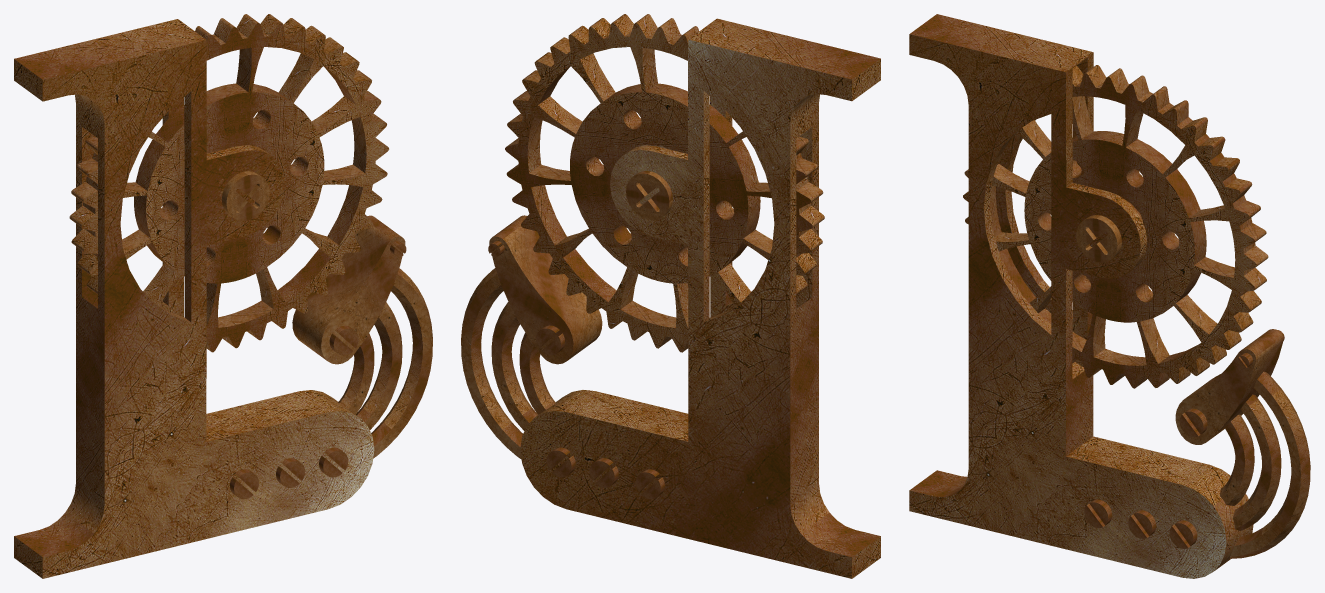
The picture shows the model from 3 angles, left to right: view 1: azimuth 30°, elevation 25°; view 2: azimuth 150°, elevation 25°; view 3: azimuth 330°, elevation 25°; orthographic projection. The views are drawn at different scales.
Parts seen in each view (by area): view 1: B, Cogwheel_316, Tube_518, Tube_520, Screw_614, Screw_615, Screw_611, Screw_632, Screw_629; view 2: B, Cogwheel_316, Tube_518, Tube_520, Screw_614, Screw_611, Screw_629, Screw_632, Screw_615; view 3: B, Cogwheel_316, Tube_520, Tube_518, Screw_614, Screw_611, Screw_629, Screw_615, Screw_632.
Part boxes in pixels (box(x1,y1,x2,y2)): B: box(14, 19, 405, 578); Cogwheel_316: box(69, 14, 389, 352); Tube_518: box(371, 268, 432, 458); Tube_520: box(338, 302, 402, 429); Screw_614: box(221, 171, 269, 221); Screw_615: box(329, 325, 358, 355); Screw_611: box(319, 447, 348, 477); Screw_632: box(230, 469, 258, 499); Screw_629: box(276, 458, 305, 487); B: box(489, 18, 880, 578); Cogwheel_316: box(505, 14, 824, 352); Tube_518: box(461, 268, 522, 459); Tube_520: box(491, 302, 555, 430); Screw_614: box(626, 171, 672, 219); Screw_611: box(546, 447, 575, 477); Screw_629: box(589, 458, 618, 487); Screw_632: box(635, 469, 664, 499); Screw_615: box(536, 325, 564, 355); B: box(909, 14, 1283, 578); Cogwheel_316: box(963, 65, 1268, 388); Tube_520: box(1220, 394, 1281, 531); Tube_518: box(1230, 371, 1310, 558); Screw_614: box(1076, 202, 1143, 262); Screw_611: box(1169, 520, 1197, 548); Screw_629: box(1128, 510, 1156, 538); Screw_615: box(1179, 408, 1207, 437); Screw_632: box(1084, 499, 1112, 527).
Size of the model in its own units: 81.27 by 95.73 by 13.08.
1 material, 1 textured.
